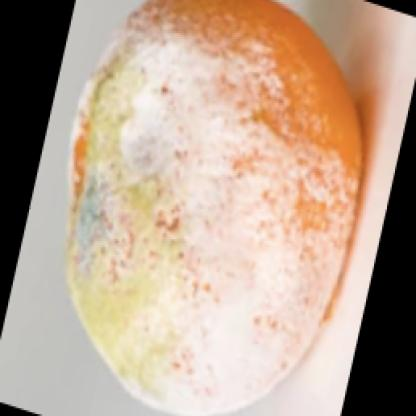rotten: (70, 1, 362, 416)
